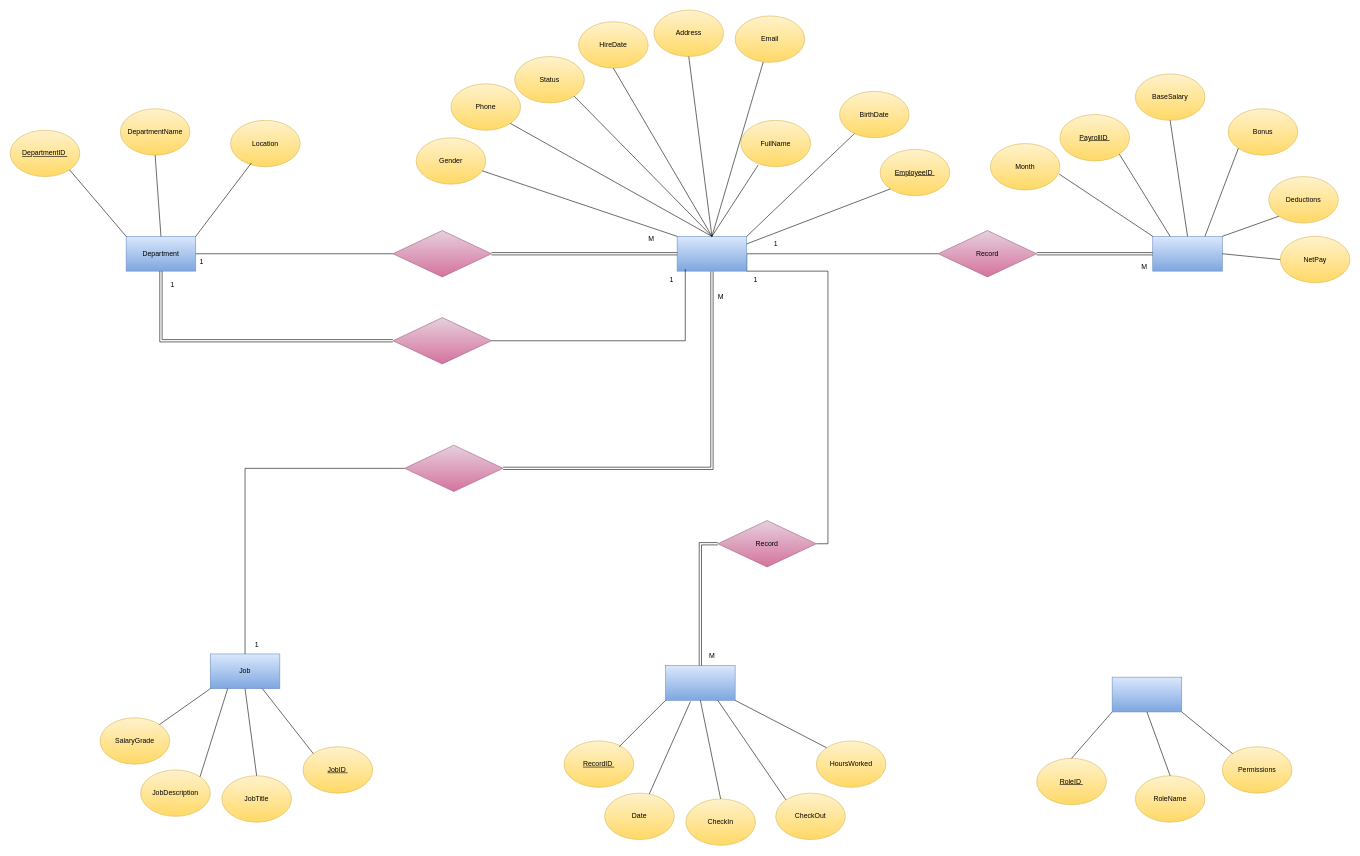
Image size: 1360x856. Some labels were removed from this diagram. Here are the shapes that lost their labels. From the top down, the centre of each, then its label:
At point (442, 253): "Work".
At point (712, 253): "Employee".
At point (1187, 253): "Payroll".
At point (442, 340): "Manage".
At point (453, 468): "Have".
At point (700, 682): "Attendance".
At point (1147, 694): "User Role".
